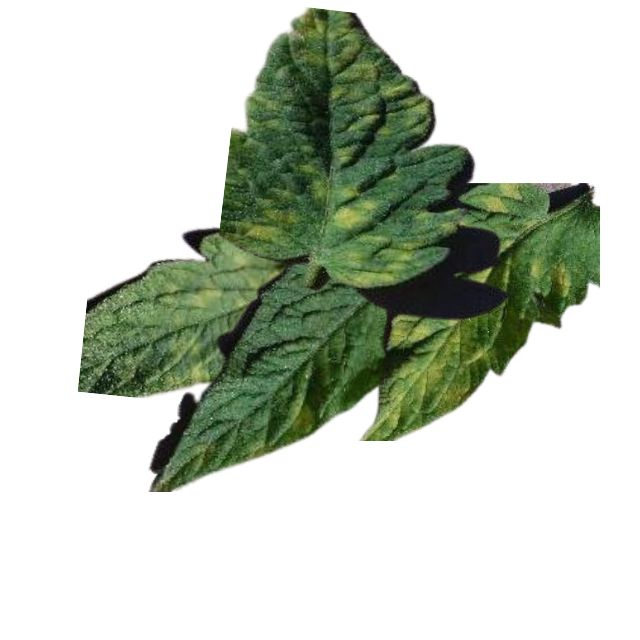Leaf_Mold: (288, 10, 436, 168), (366, 311, 507, 440), (140, 242, 278, 318), (328, 229, 421, 289), (153, 330, 213, 391), (308, 177, 376, 228), (245, 201, 298, 250), (526, 253, 574, 298), (278, 392, 313, 443), (477, 181, 524, 215), (238, 438, 271, 462)
